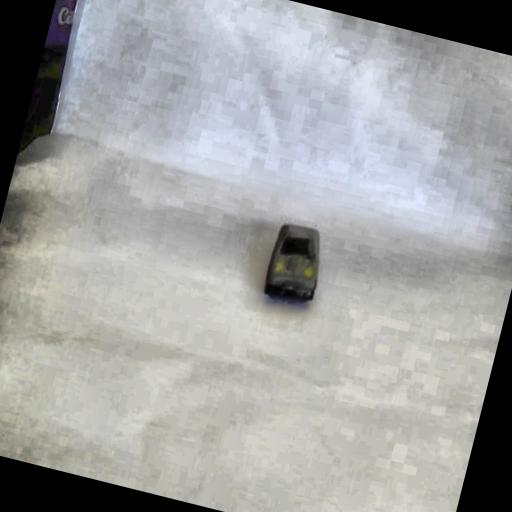normal_car: (258, 218, 332, 309)
